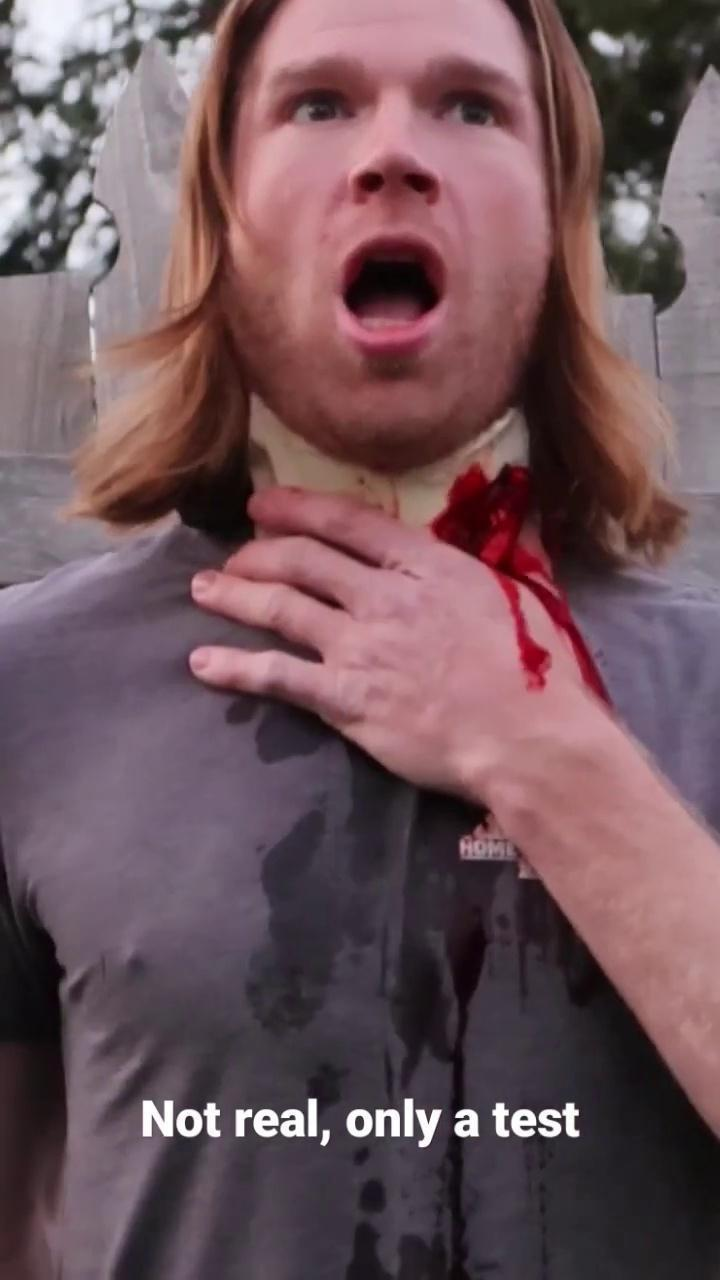Fire: (320, 411, 613, 706)
